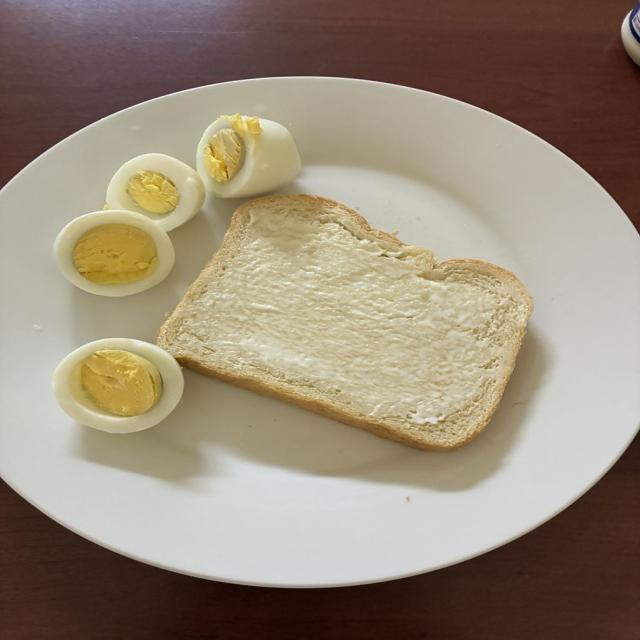egg boiled: (53, 338, 184, 433), (54, 211, 174, 296), (197, 115, 300, 197), (107, 153, 205, 231)
sliced bread: (158, 195, 531, 450)
